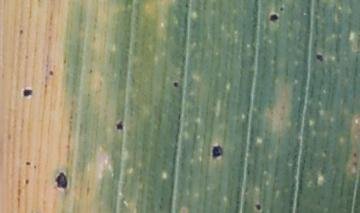tarspot: (55, 171, 68, 189), (211, 144, 223, 159), (22, 86, 33, 98), (115, 118, 125, 131), (268, 13, 280, 22), (315, 53, 324, 63), (172, 80, 180, 89), (47, 69, 55, 77), (24, 159, 32, 166), (18, 28, 24, 35), (255, 204, 262, 210), (25, 178, 30, 186), (279, 5, 284, 13), (352, 151, 357, 158)
